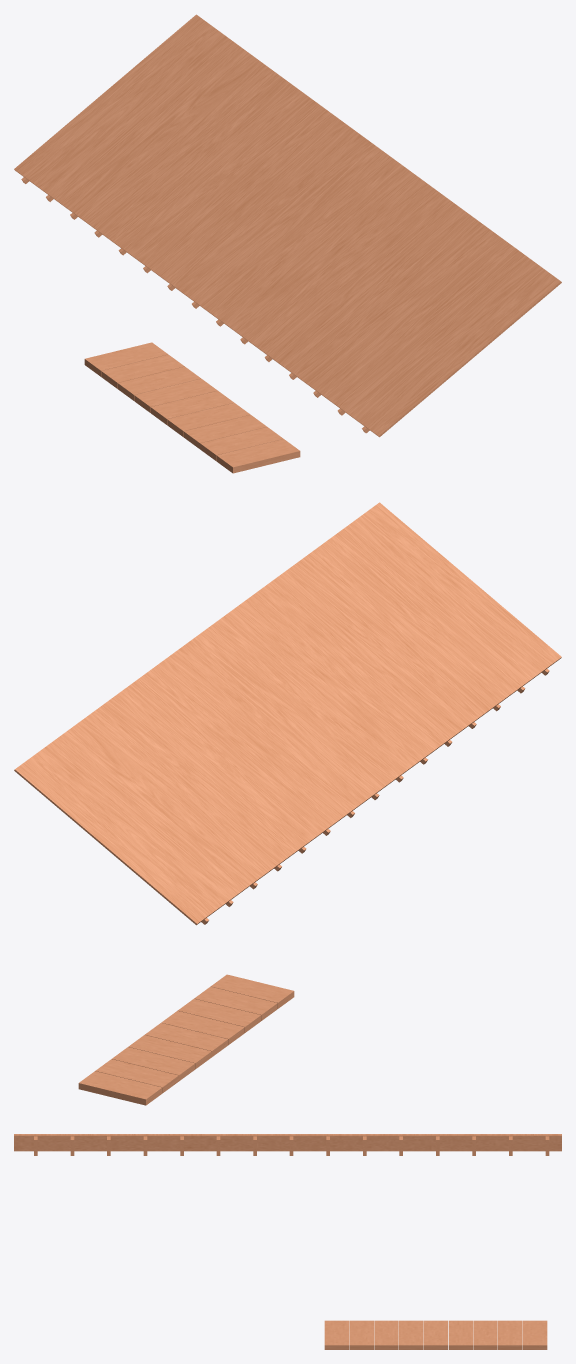
The model's file is engawa.fbx.
The picture shows the model from 3 angles, top to bottom: view 1: azimuth 30°, elevation 25°; view 2: azimuth 150°, elevation 25°; view 3: azimuth 270°, elevation 25°; orthographic projection. The views are drawn at different scales.
Visible parts, largest first — view 1: nojiita, engawa; view 2: nojiita, engawa; view 3: nojiita, engawa, taruki_01.
Boxes of the visible parts, <box> form: nojiita: <box>14,14,561,437</box>; engawa: <box>84,342,300,473</box>; nojiita: <box>14,502,561,925</box>; engawa: <box>78,974,294,1105</box>; nojiita: <box>14,1134,561,1151</box>; engawa: <box>324,1320,547,1349</box>; taruki_01: <box>34,1136,549,1155</box>.
Bounding box in the file's own units: 2.19 × 3.56 × 7.5.
2 materials, 2 textured.
